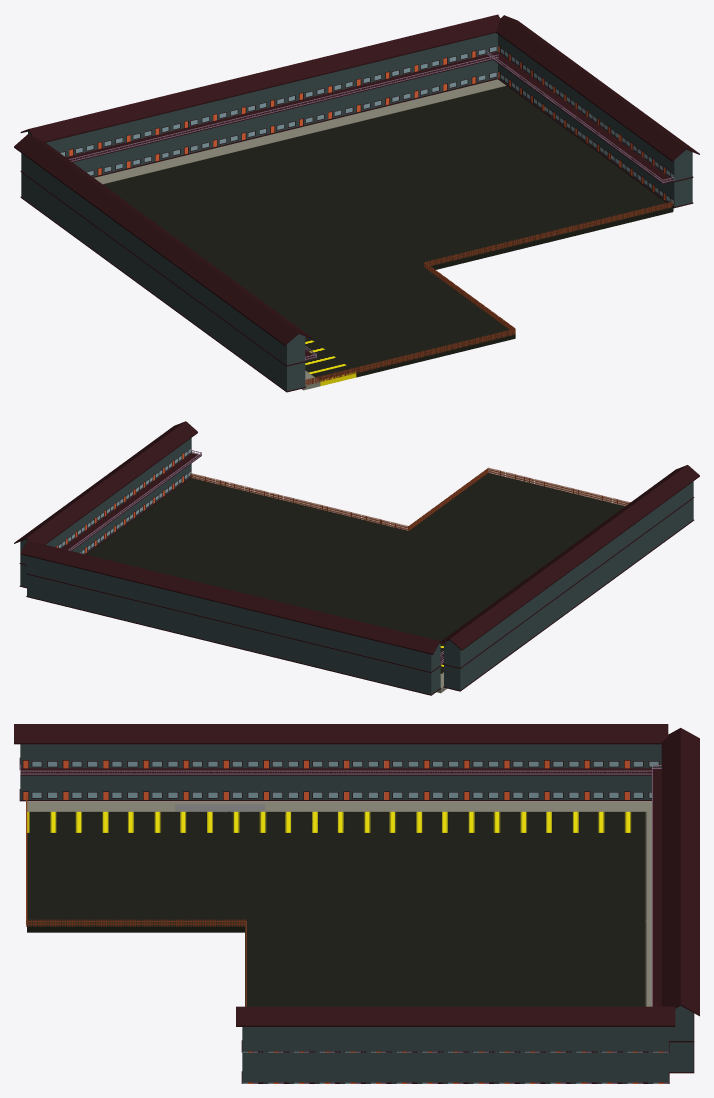
Rendered from GameJam180Map2.fbx.
3 renders of one model, top to bottom at view 1: azimuth 30°, elevation 25°; view 2: azimuth 150°, elevation 25°; view 3: azimuth 270°, elevation 25°, orthographic. The views are drawn at different scales.
Visible parts, largest first — view 1: Floor, building_002.002, building_002.001, building_004, Fence; view 2: Floor, building_002.002, building_002.001, building_004, Fence; view 3: Floor, building_002.001, building_004, building_002.002, Fence.
Part boxes in pixels (bbox=[...]): Floor: bbox=[94, 79, 673, 390]; building_002.002: bbox=[20, 14, 504, 177]; building_002.001: bbox=[14, 134, 316, 392]; building_004: bbox=[486, 15, 699, 208]; Fence: bbox=[305, 201, 673, 385]; Floor: bbox=[86, 473, 624, 693]; building_002.002: bbox=[20, 540, 446, 695]; building_002.001: bbox=[440, 465, 699, 691]; building_004: bbox=[14, 421, 201, 588]; Fence: bbox=[190, 467, 630, 530]; Floor: bbox=[27, 801, 651, 1006]; building_002.001: bbox=[14, 724, 668, 801]; building_004: bbox=[236, 1006, 675, 1083]; building_002.002: bbox=[652, 728, 699, 1073]; Fence: bbox=[26, 794, 246, 1006].
Size of the model in its own units: 11014 by 1333 by 10693.
